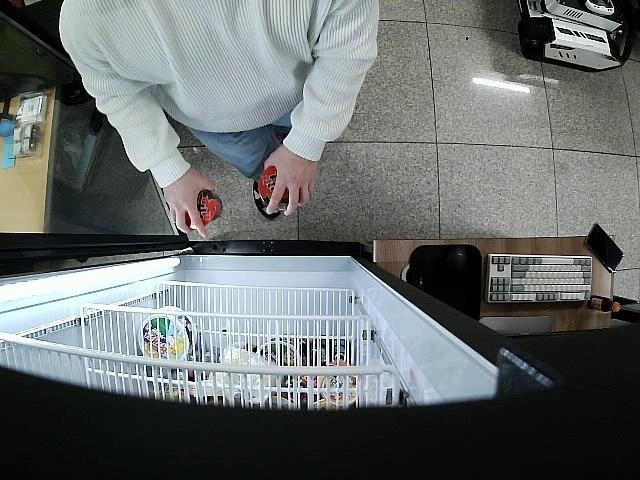02_shinRamen_S: (186, 190, 224, 230), (258, 166, 290, 212)
